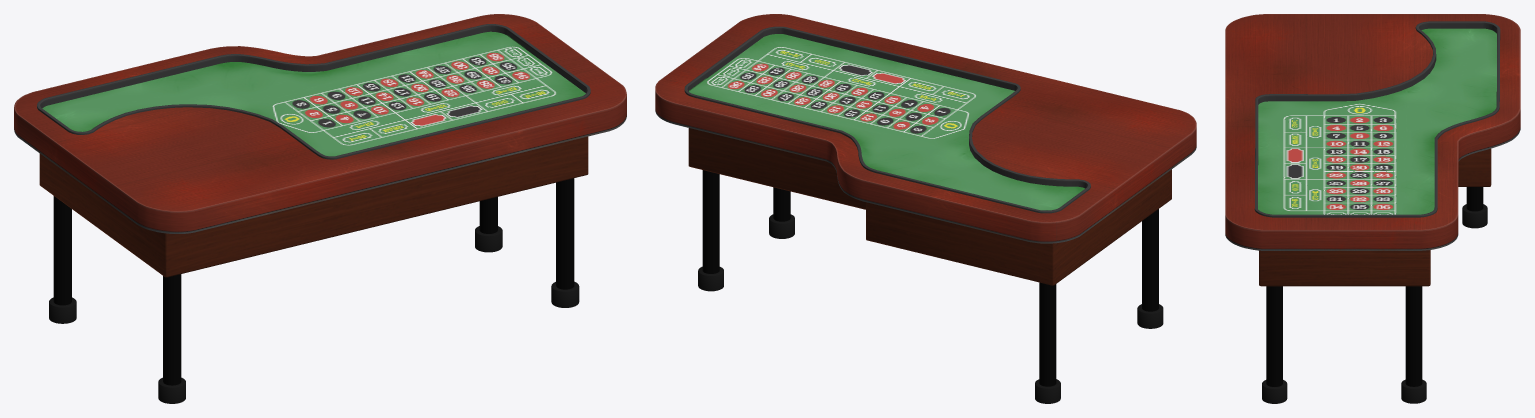
The model's file is RouleteTable.fbx.
3 renders of one model, left to right at view 1: azimuth 30°, elevation 25°; view 2: azimuth 150°, elevation 25°; view 3: azimuth 270°, elevation 25°, orthographic. The views are drawn at different scales.
Visible parts, largest first — view 1: roulette.002; view 2: roulette.002; view 3: roulette.002.
Part boxes in pixels (box(x1,y1,x2,y2)): roulette.002: box(14, 14, 626, 403); roulette.002: box(655, 14, 1196, 403); roulette.002: box(1225, 14, 1520, 403).
Size of the model in its own units: 14188 by 5904 by 8186.
